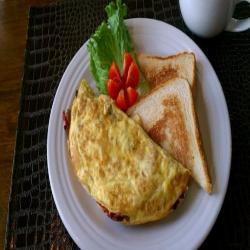bread: (128, 54, 228, 191)
omelette: (60, 93, 191, 227)
salad: (87, 12, 142, 102)
